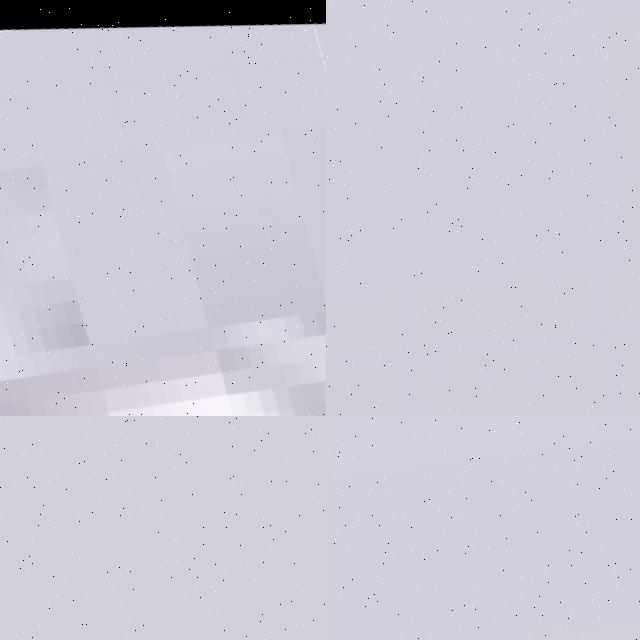drone: (0, 0, 326, 416)
